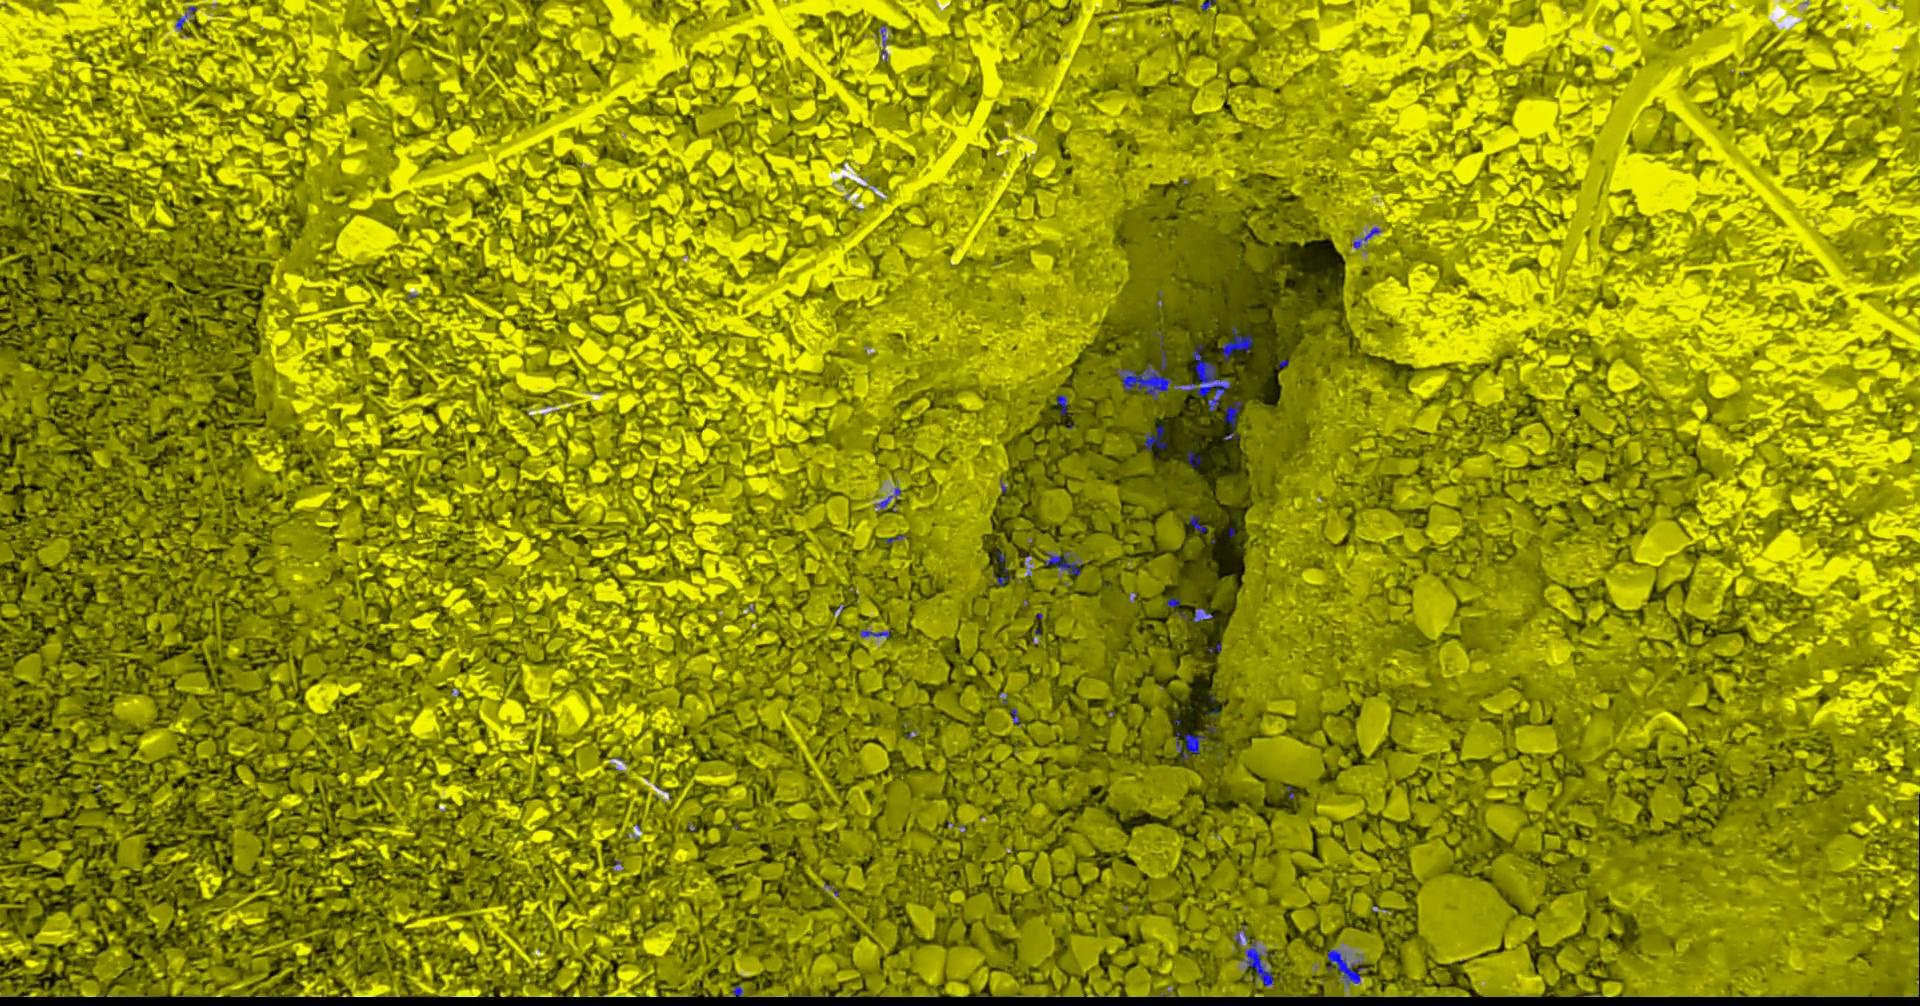ant: (1175, 343, 1232, 412), (1117, 363, 1175, 399), (1177, 724, 1219, 760), (1243, 940, 1275, 984), (1328, 949, 1368, 983), (1222, 326, 1255, 362), (1045, 551, 1082, 575), (1225, 400, 1243, 439), (1354, 227, 1382, 248), (1145, 426, 1168, 450), (1154, 332, 1168, 370), (1168, 597, 1189, 621), (1191, 513, 1208, 533), (1194, 607, 1215, 622), (1058, 392, 1072, 415), (1189, 450, 1203, 467), (998, 567, 1011, 586), (883, 24, 889, 60), (861, 630, 891, 636)
